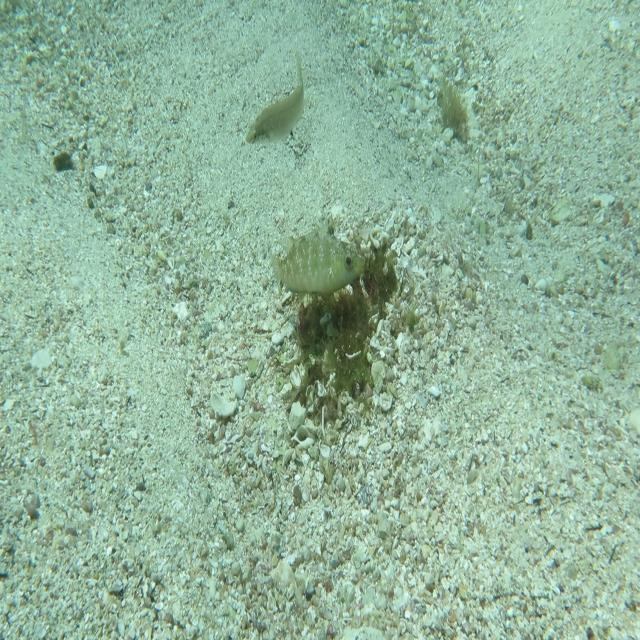FAN: (272, 214, 366, 299)
core_nest: (342, 254, 382, 293)
female: (245, 55, 305, 147)
nest: (274, 211, 403, 423)
vegetation: (439, 74, 473, 144), (53, 150, 75, 175)
